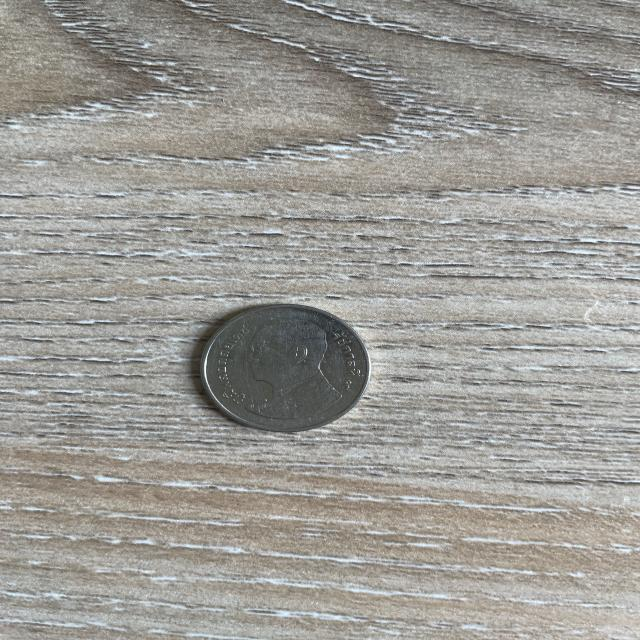1 Bath: (177, 295, 386, 441)
